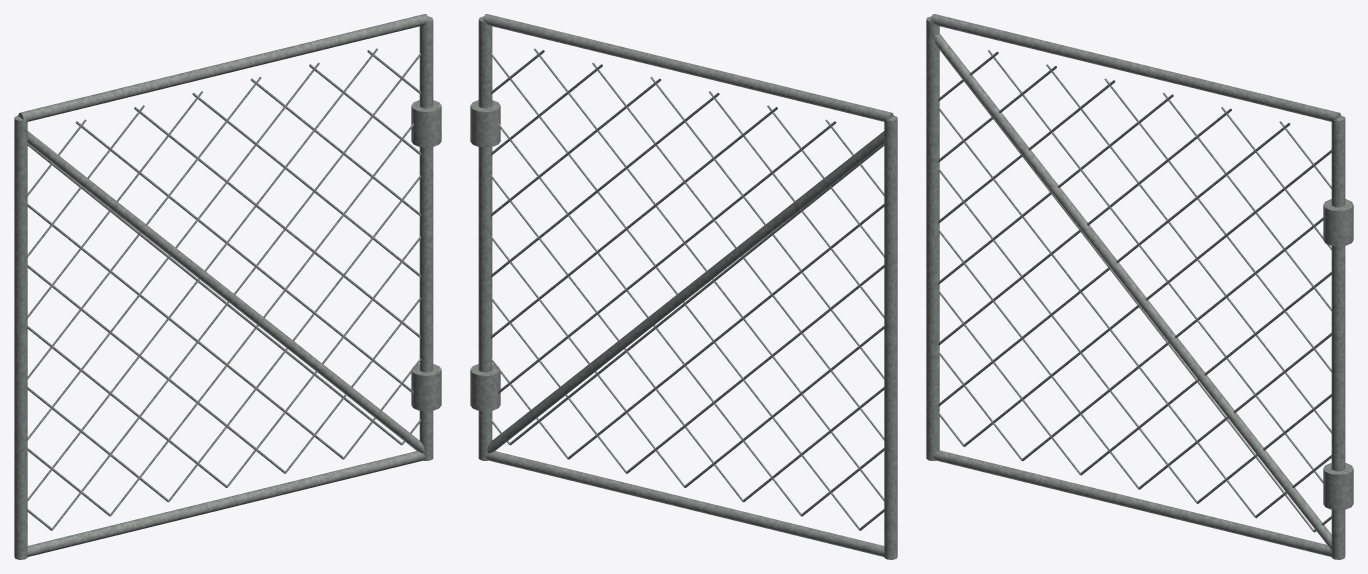
Rendered from SM_Substation_Gate_R_LOD1.fbx.
3 renders of one model, left to right at view 1: azimuth 30°, elevation 25°; view 2: azimuth 150°, elevation 25°; view 3: azimuth 330°, elevation 25°, orthographic.
Visible parts, largest first — view 1: SM_Substation_Gate_R_LOD1; view 2: SM_Substation_Gate_R_LOD1; view 3: SM_Substation_Gate_R_LOD1.
Boxes of the visible parts, bbox=[...] form: SM_Substation_Gate_R_LOD1: bbox=[14, 14, 441, 559]; SM_Substation_Gate_R_LOD1: bbox=[470, 14, 897, 559]; SM_Substation_Gate_R_LOD1: bbox=[926, 14, 1353, 559].
Size of the model in its own units: 2.26 by 0.14 by 2.26.
